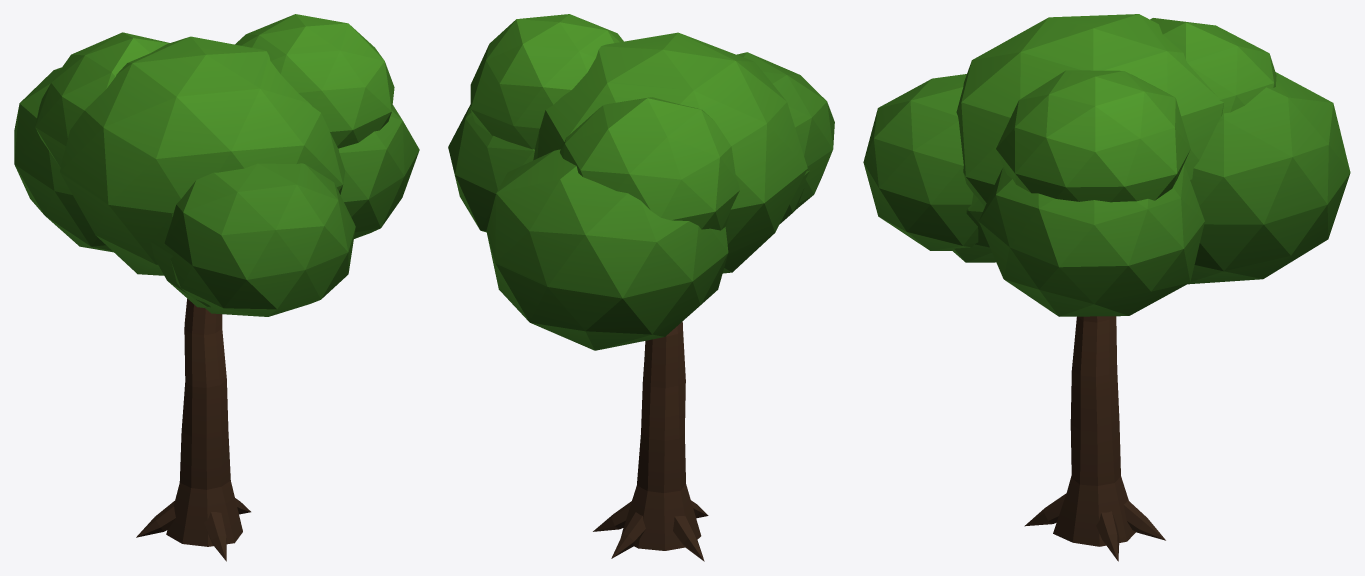
The model's file is tree_oak_01.glb.
3 renders of one model, left to right at view 1: azimuth 30°, elevation 25°; view 2: azimuth 150°, elevation 25°; view 3: azimuth 270°, elevation 25°, orthographic. The views are drawn at different scales.
Parts seen in each view (by area): view 1: tree_oak_01_LOD0; view 2: tree_oak_01_LOD0; view 3: tree_oak_01_LOD0.
Part boxes in pixels (x1,y1,x2,y2): tree_oak_01_LOD0: [14, 14, 419, 561]; tree_oak_01_LOD0: [448, 14, 834, 561]; tree_oak_01_LOD0: [863, 14, 1350, 561].
Size of what is drawn, in the model's own units: 2.73 by 3.93 by 3.42.
Materials: 1 (1 with a texture image).
